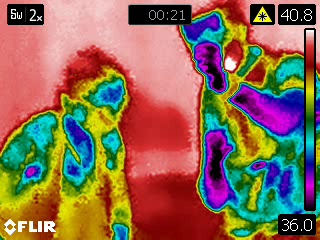human: (178, 1, 320, 240), (1, 44, 138, 240)
